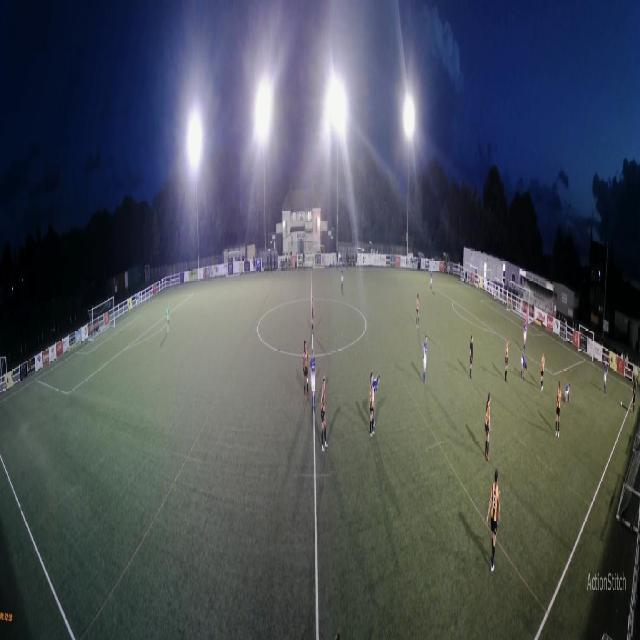ball: (620, 400, 622, 407)
player: (487, 469, 501, 573), (321, 377, 328, 454), (302, 340, 310, 401), (369, 370, 375, 438), (485, 393, 491, 461), (311, 348, 317, 414), (373, 373, 380, 427), (556, 380, 562, 438), (422, 335, 427, 385), (540, 350, 545, 392), (310, 295, 315, 336), (469, 333, 473, 379), (520, 355, 527, 380), (505, 340, 509, 382), (603, 361, 608, 393), (165, 301, 170, 332), (416, 292, 420, 329), (523, 320, 527, 354), (565, 384, 571, 403), (526, 307, 529, 332), (341, 266, 344, 291), (430, 270, 432, 291)
